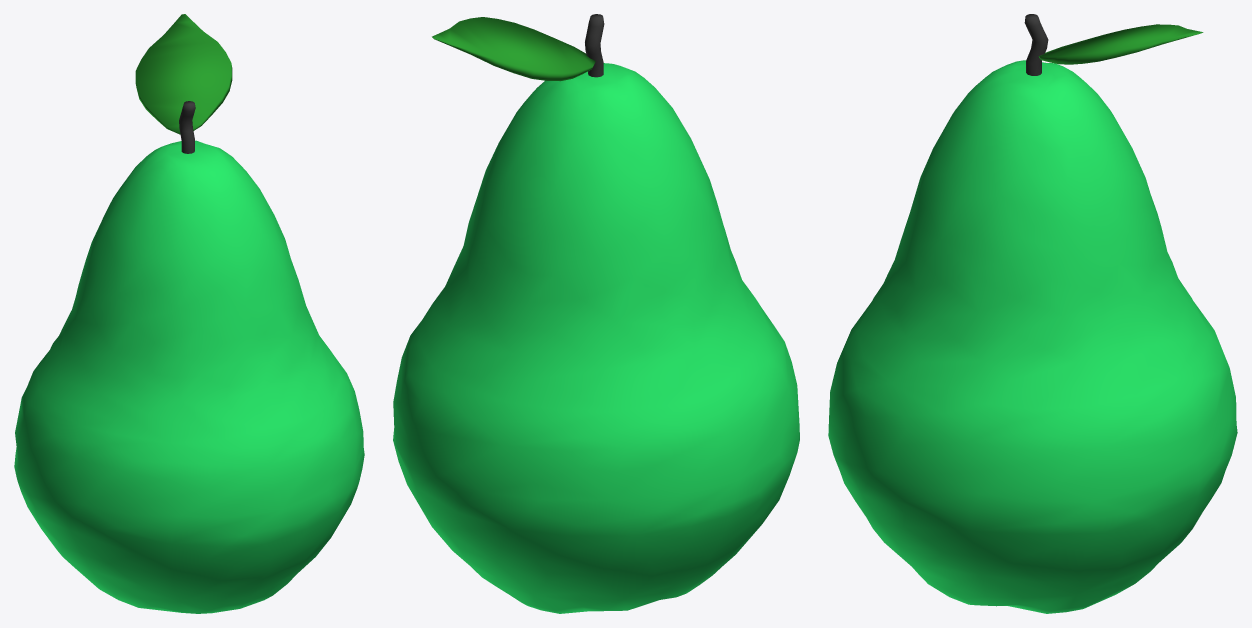
Rendered from Pears2.fbx.
3 renders of one model, left to right at view 1: azimuth 30°, elevation 25°; view 2: azimuth 150°, elevation 25°; view 3: azimuth 270°, elevation 25°, orthographic. The views are drawn at different scales.
Parts seen in each view (by area): view 1: Pears2; view 2: Pears2; view 3: Pears2.
Part boxes in pixels (left/top/right/bottom): Pears2: left=14, top=14, right=364, bottom=613; Pears2: left=393, top=14, right=799, bottom=613; Pears2: left=828, top=14, right=1237, bottom=613.
Bounding box in the file's own units: 0.7626 × 0.7691 × 1.2.
